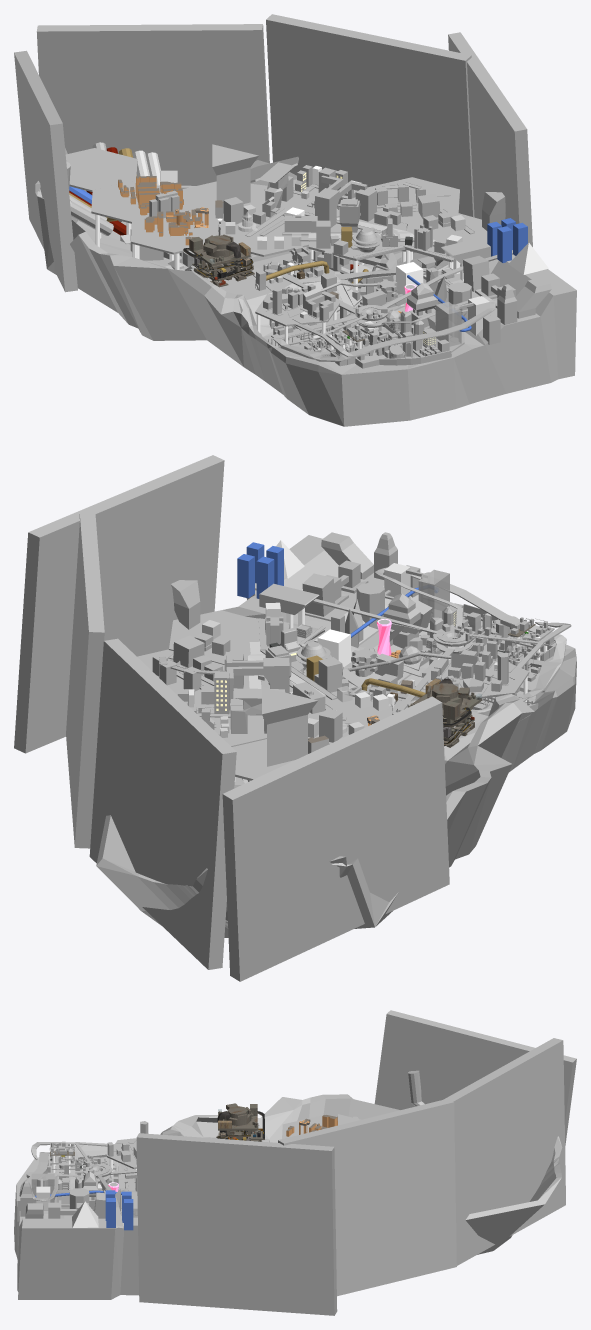
Rendered from megacity4.gltf.
3 views of the same model, one above another, from view 1: azimuth 30°, elevation 25°; view 2: azimuth 150°, elevation 25°; view 3: azimuth 270°, elevation 25° (orthographic). The views are drawn at different scales.
Parts seen in each view (by area): view 1: Cube.330, Cube.627, Cube.061, Cube.628, Cube.062, citybase, Cylinder.085, Cylinder.099, Cylinder.054, Cylinder.053, Cylinder.083, Cylinder.055 (+25 smaller); view 2: Cube.628, Cube.062, Cube.627, Cube.330, Cube.061, Cylinder.099, Cylinder.038, citybase, Cube.492, Cube.359, Cylinder.056, Cylinder.053 (+19 smaller); view 3: Cube.062, Cube.061, Cube.330, Cube.627, Cube.628, citybase, Cube.359, Cone.001, Cylinder.030, Cube.328, Cylinder.108, Cylinder.054.
Boxes of the visible parts, bbox=[...] form: Cube.330: bbox=[35, 148, 576, 426]; Cube.627: bbox=[36, 24, 269, 185]; Cube.061: bbox=[266, 14, 474, 217]; Cube.628: bbox=[14, 50, 77, 292]; Cube.062: bbox=[448, 32, 532, 246]; citybase: bbox=[183, 234, 254, 287]; Cylinder.085: bbox=[65, 148, 137, 191]; Cylinder.099: bbox=[212, 144, 258, 203]; Cylinder.054: bbox=[130, 211, 218, 254]; Cylinder.053: bbox=[220, 214, 309, 256]; Cylinder.083: bbox=[91, 180, 161, 223]; Cylinder.055: bbox=[367, 177, 459, 225]; Cube.628: bbox=[222, 696, 449, 981]; Cube.062: bbox=[14, 455, 224, 753]; Cube.627: bbox=[89, 638, 236, 969]; Cube.330: bbox=[96, 535, 576, 937]; Cube.061: bbox=[66, 512, 104, 848]; Cylinder.099: bbox=[262, 687, 317, 766]; Cylinder.038: bbox=[169, 607, 289, 664]; citybase: bbox=[408, 678, 481, 747]; Cube.492: bbox=[226, 653, 289, 703]; Cube.359: bbox=[255, 583, 571, 667]; Cylinder.056: bbox=[232, 739, 294, 780]; Cylinder.053: bbox=[308, 693, 392, 744]; Cube.062: bbox=[136, 1133, 337, 1315]; Cube.061: bbox=[278, 1098, 456, 1296]; Cube.330: bbox=[14, 1094, 562, 1299]; Cube.627: bbox=[443, 1038, 565, 1265]; Cube.628: bbox=[374, 1010, 576, 1145]; citybase: bbox=[216, 1103, 264, 1141]; Cube.359: bbox=[31, 1142, 123, 1228]; Cone.001: bbox=[72, 1201, 98, 1227]; Cylinder.030: bbox=[107, 1138, 136, 1168]; Cube.328: bbox=[31, 1173, 54, 1203]; Cylinder.108: bbox=[408, 1070, 424, 1106]; Cylinder.054: bbox=[282, 1115, 322, 1138].
Bounding box in the file's own units: 1940 × 989 × 2752.
